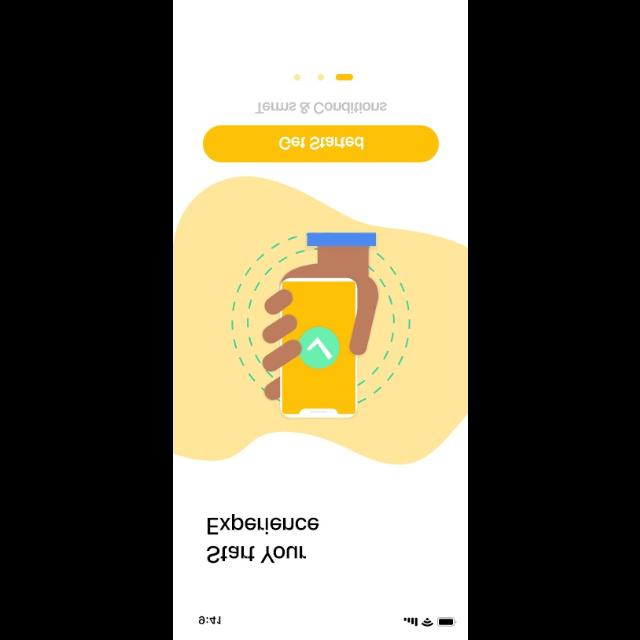image: (231, 232, 411, 418)
pageindicator: (293, 74, 353, 80)
text: (206, 513, 320, 563), (254, 102, 386, 115)
textbutton: (202, 125, 440, 162)
uppertaskbar: (198, 616, 456, 626)
